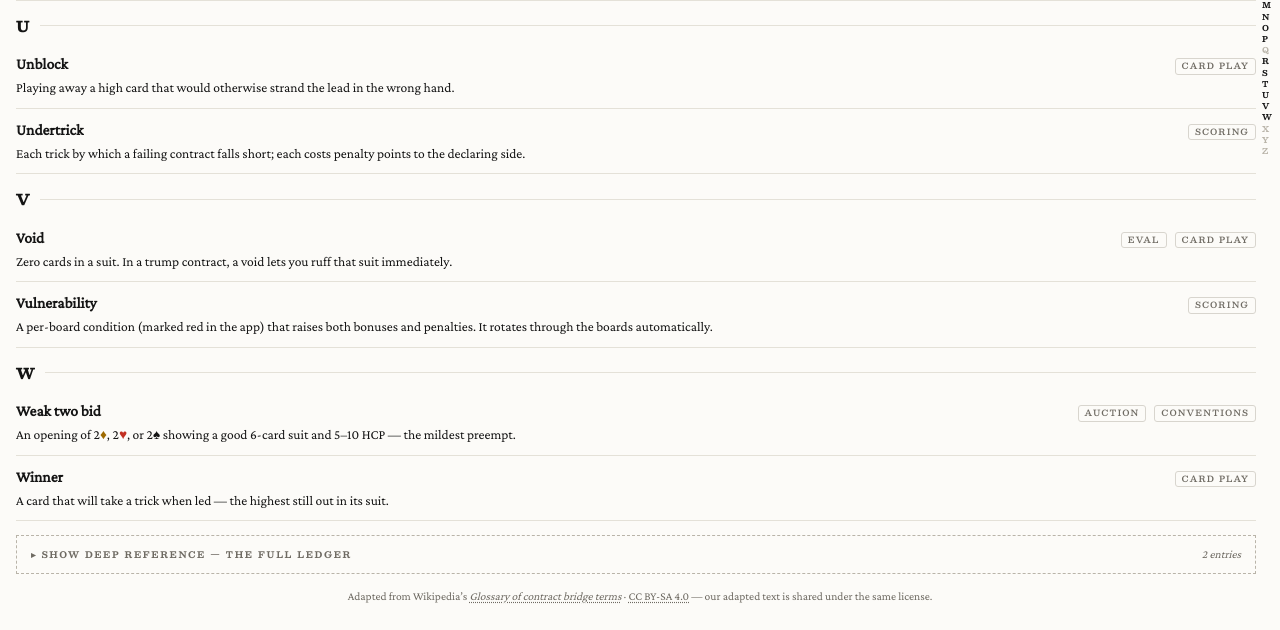
Glossary page › the deep-reference toggle expands the full ledger inline
(page scrolled)
Click the button "▸ SHOW DEEP REFERENCE — THE FULL LEDGER 2 entries" at x=191, y=554, box [16, 535, 1256, 574]
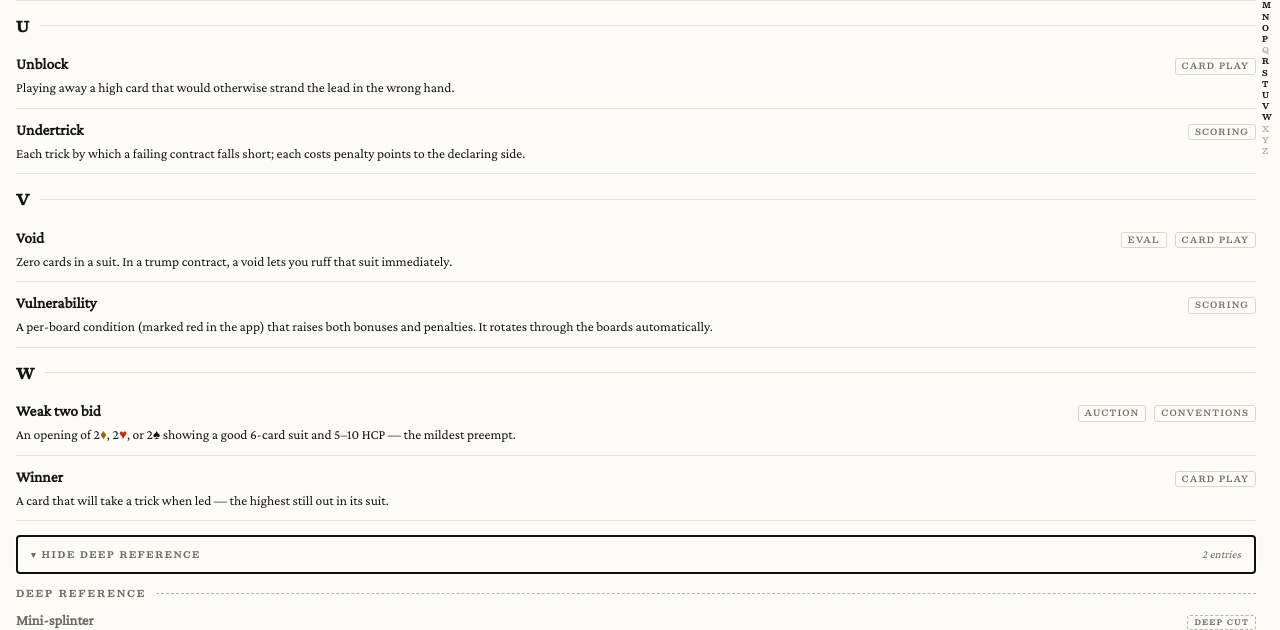
Expected: the button "▾ HIDE DEEP REFERENCE 2 entries" is shown, [16, 535, 1256, 574]
